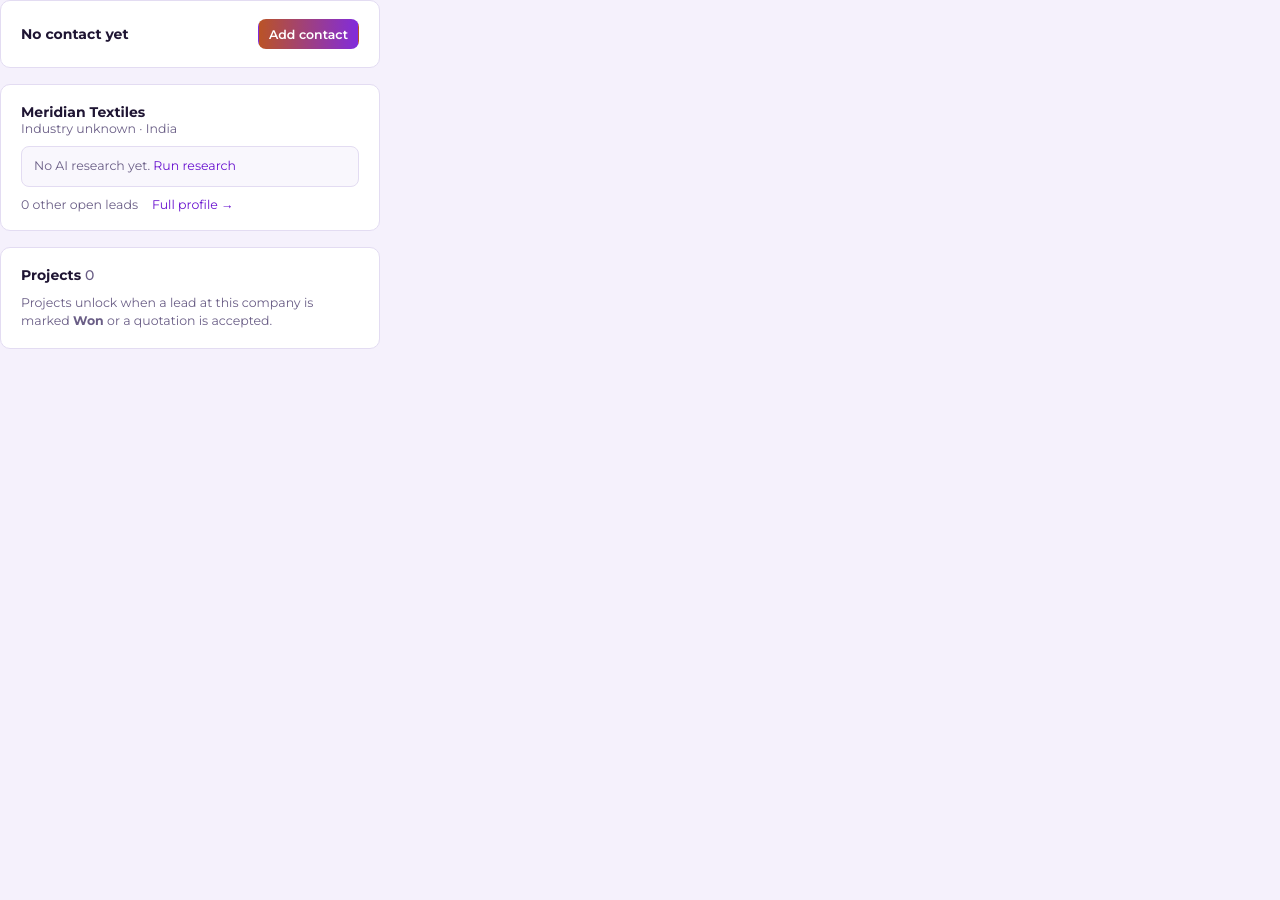
Test case: review fixes › a contact that was added but could not be linked says so
Click the button "Add contact".
click(308, 34)  # box [258,19,359,49]
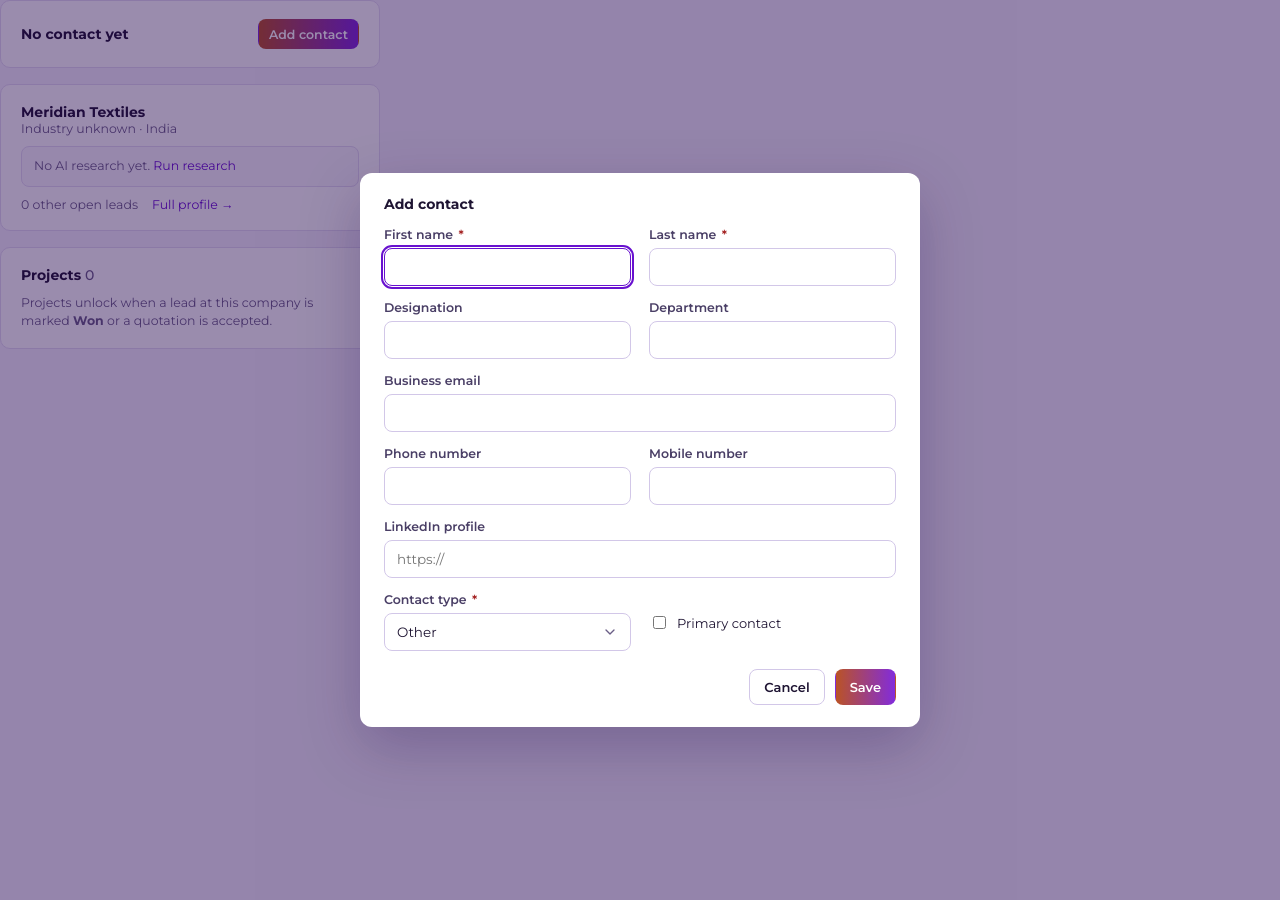
Type "Layla" into the field labelled "First name *".
click(508, 267); type("Layla")  # box [384,248,631,286]
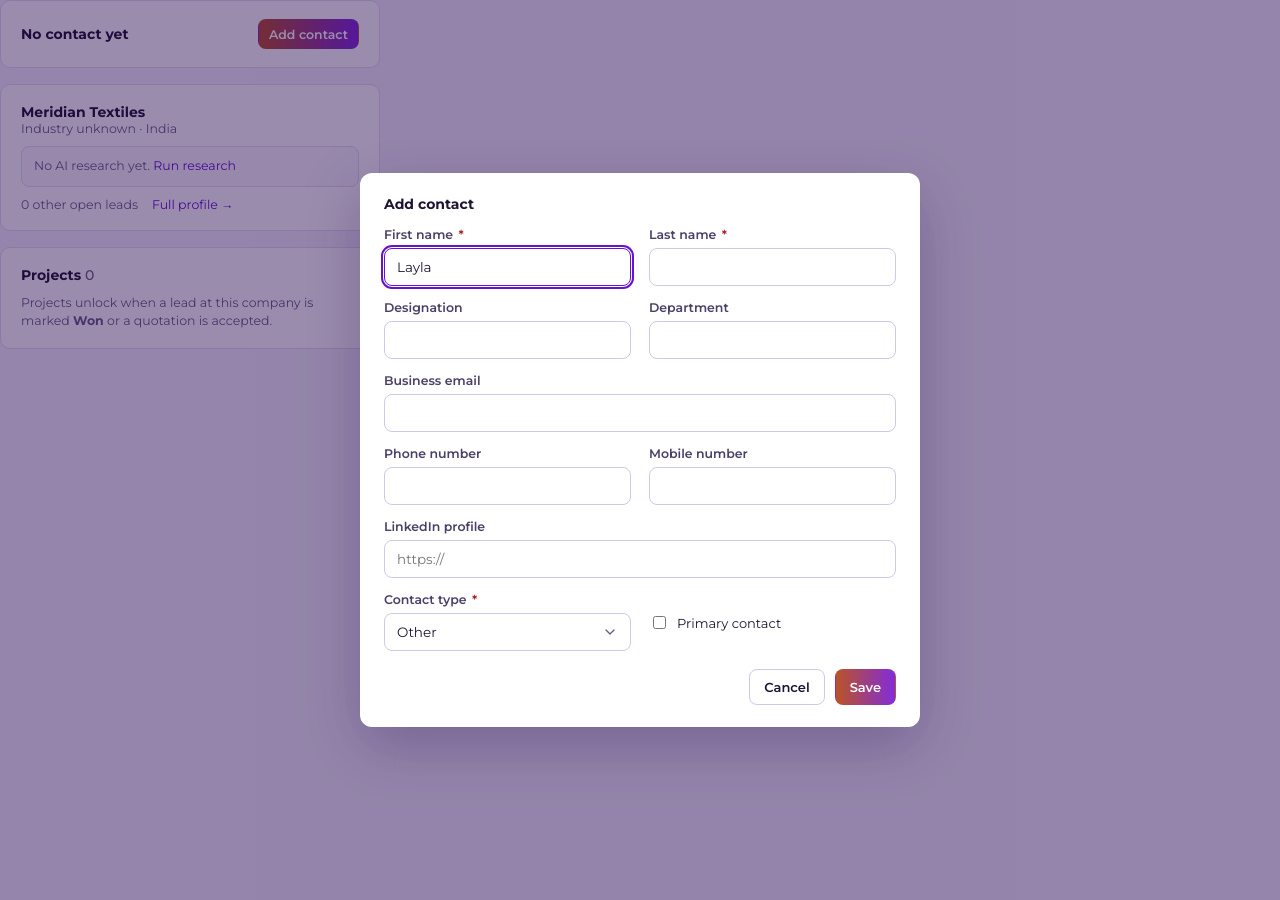
Type "Haddad" into the field labelled "Last name *".
click(772, 267); type("Haddad")  # box [649,248,896,286]
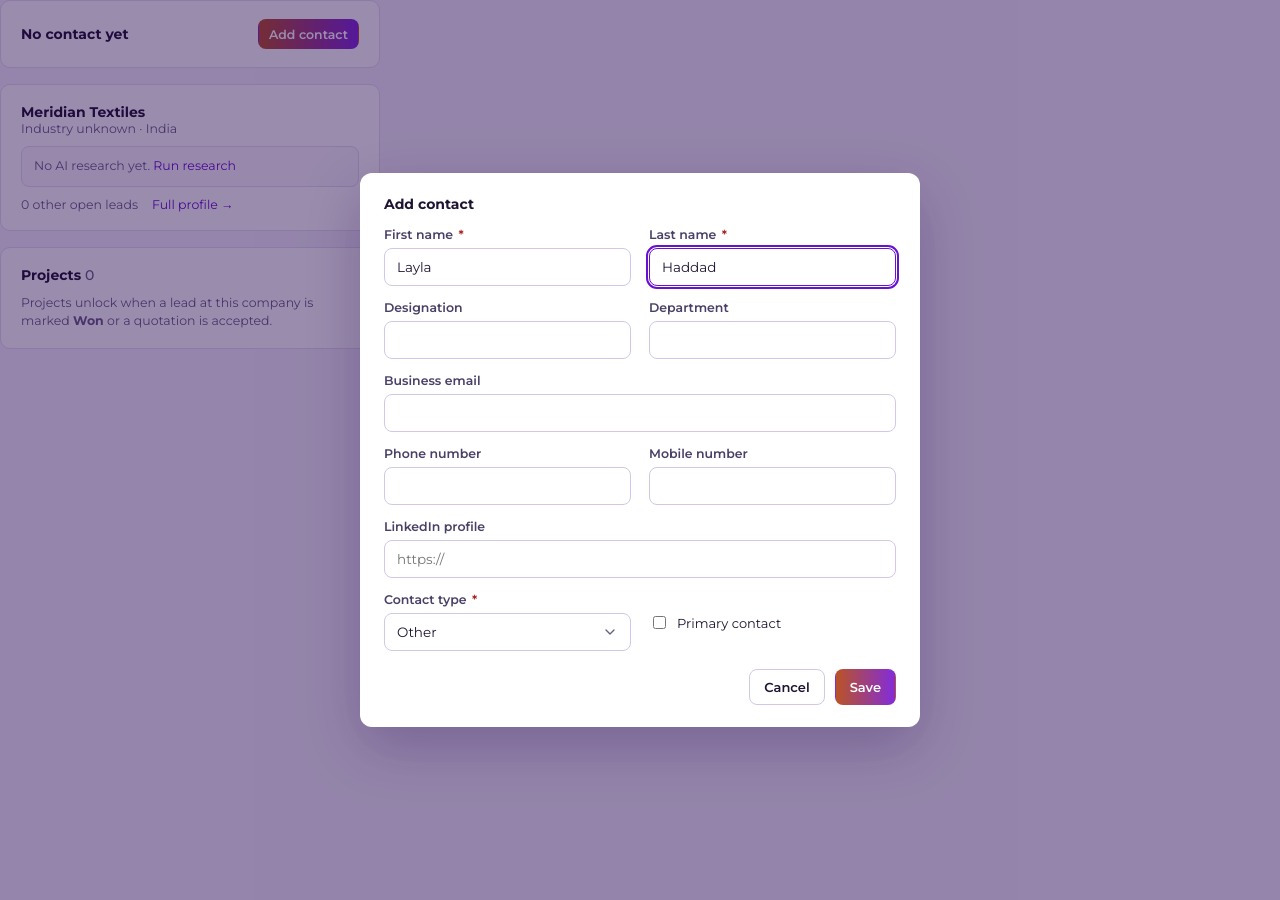
Click the button "Save".
click(865, 687)  # box [835,669,896,705]
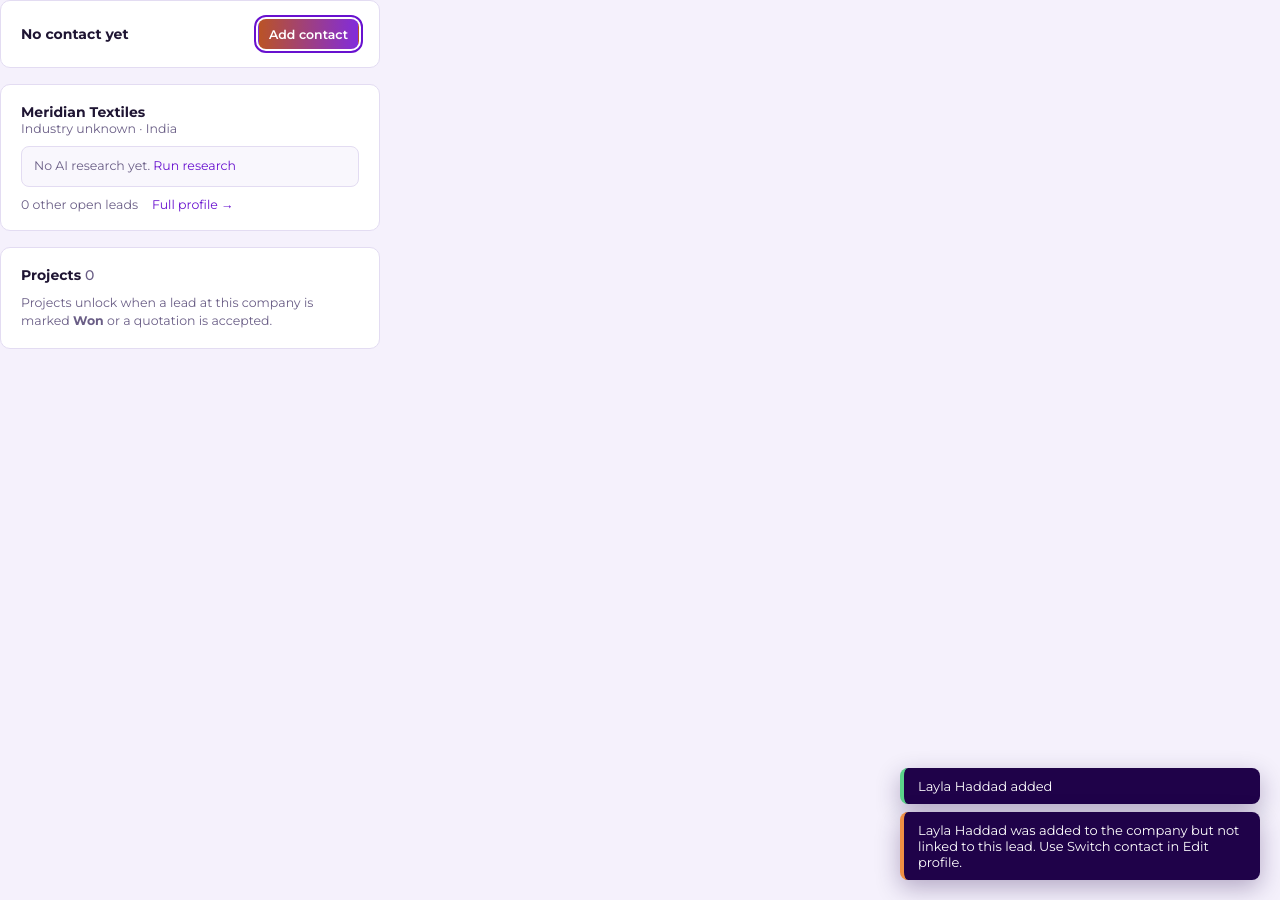
expect the text "Layla Haddad was added to the company but not linked to this lead. Use Switch contact in Edit profile." is shown: met, box [918,822,1239,870]
